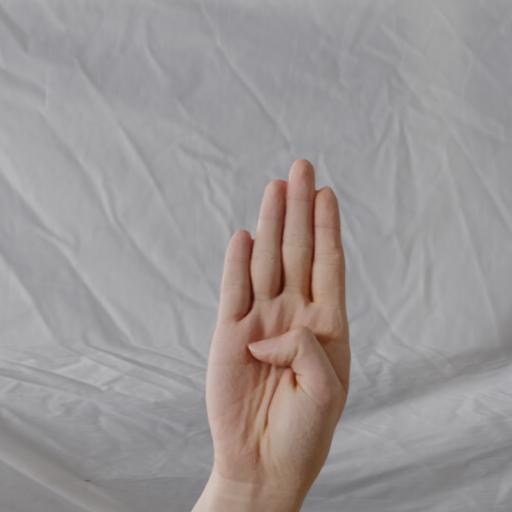B: (152, 147, 382, 455)
